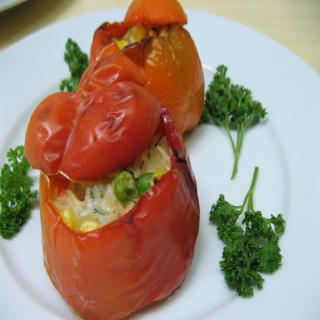tomato: (24, 55, 202, 319), (89, 0, 206, 140)
